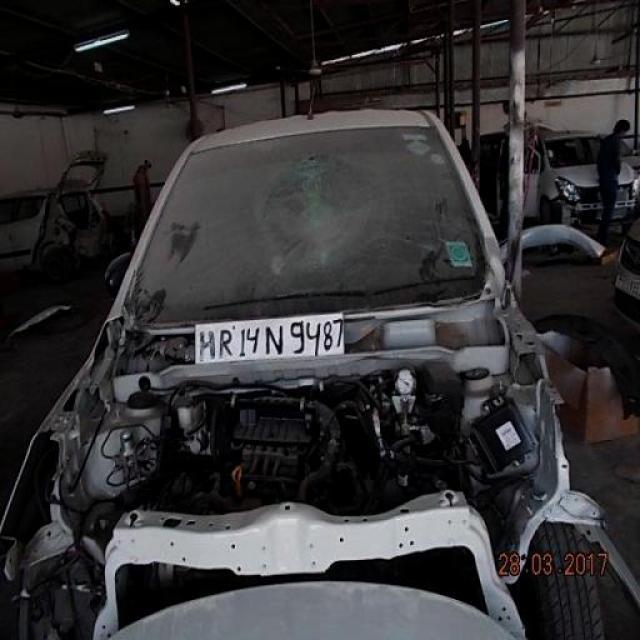Car-Damage: (16, 380, 579, 640), (124, 121, 496, 331)
